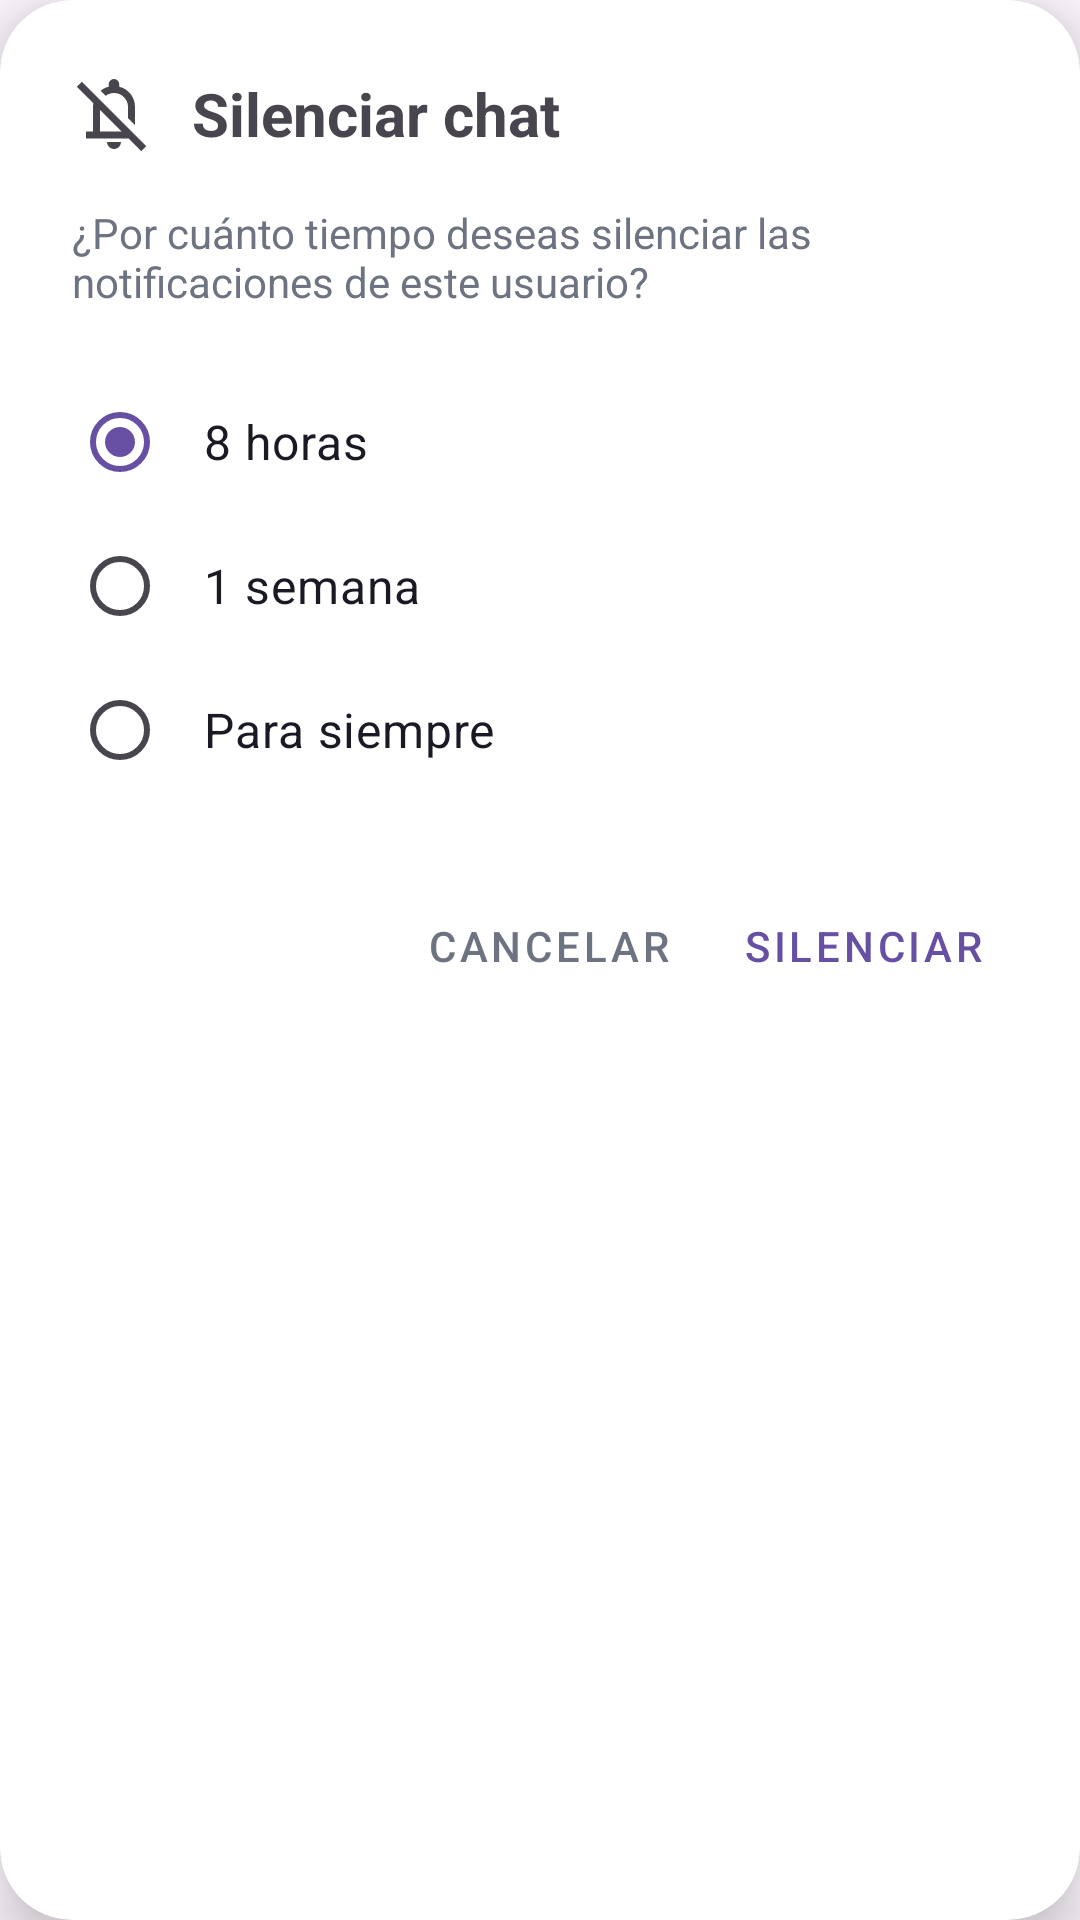

Where to tap for icons on this 1080 × 1920 app screen, as [x,y]:
mute: [111,115]
